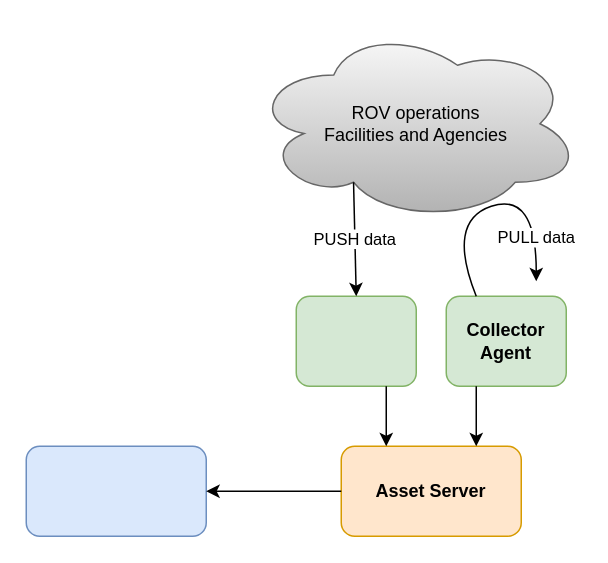
Image size: 608x563. Some labels were removed from this diagram. The centre of each missing label's shape, as x and y in pixels:
Collector: [355,340]
Console: [115,490]
